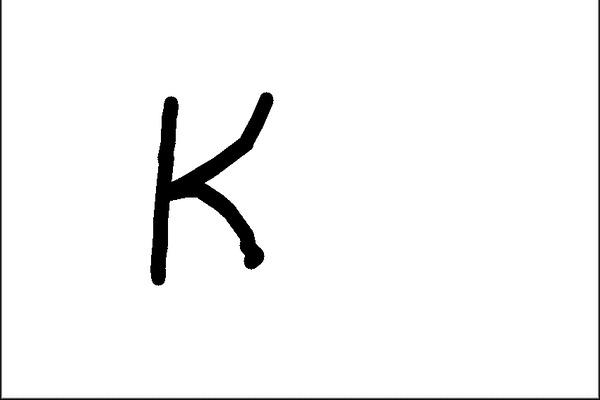K: (144, 83, 280, 290)
